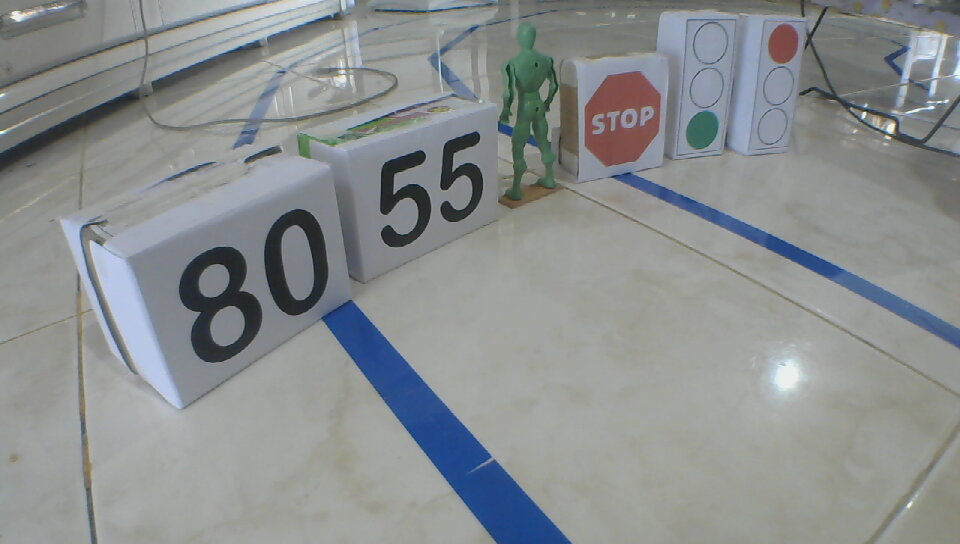Green Light: (683, 19, 730, 153)
Person: (494, 21, 558, 203)
Red Light: (756, 22, 799, 148)
Speed 55: (377, 128, 486, 246)
Speed 80: (178, 206, 331, 364)
Stop: (584, 74, 658, 167)
